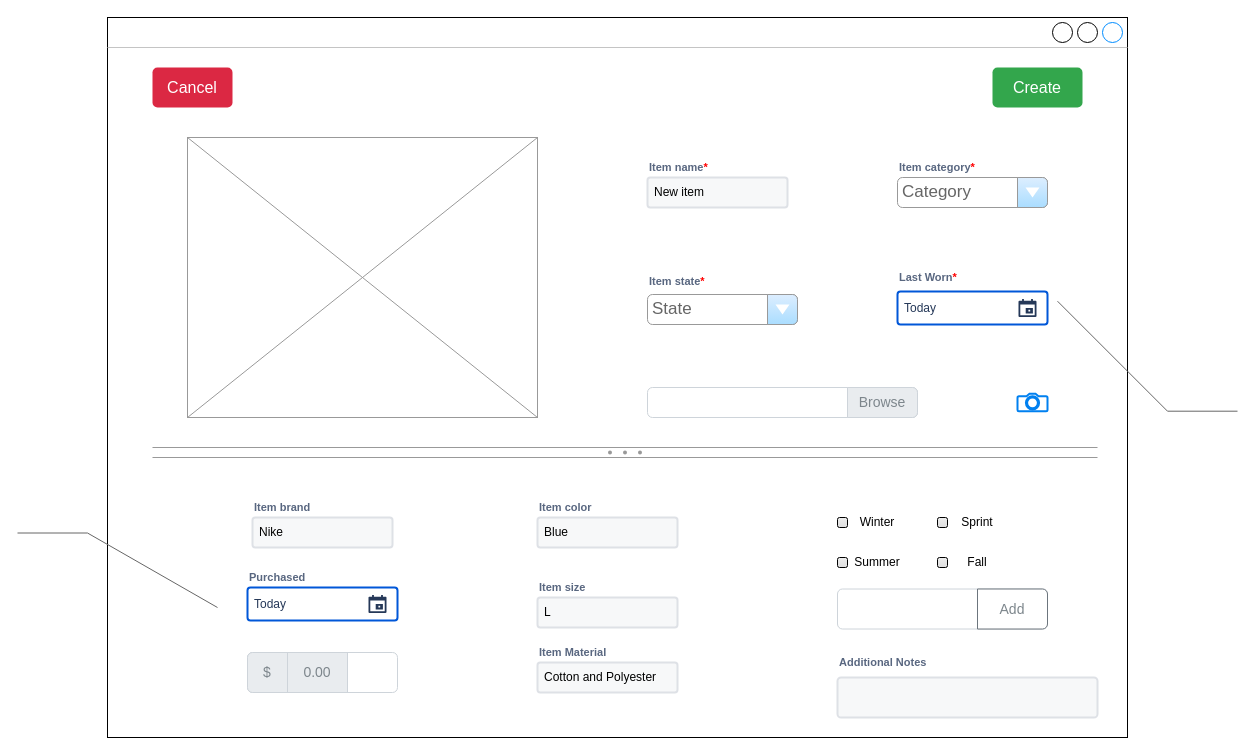
Some shapes in this 1255 by 755 pixel diagram are drawn without their labels. The box of each missing label's shape, as (x1, y1, x2, y2) in pixels:
Choose file: (646, 386, 918, 418)
Occasion: (836, 588, 1048, 629)
Optional: (16, 506, 218, 608)
Required: (1056, 300, 1238, 411)
Watermelon Squad: (836, 676, 1098, 718)
